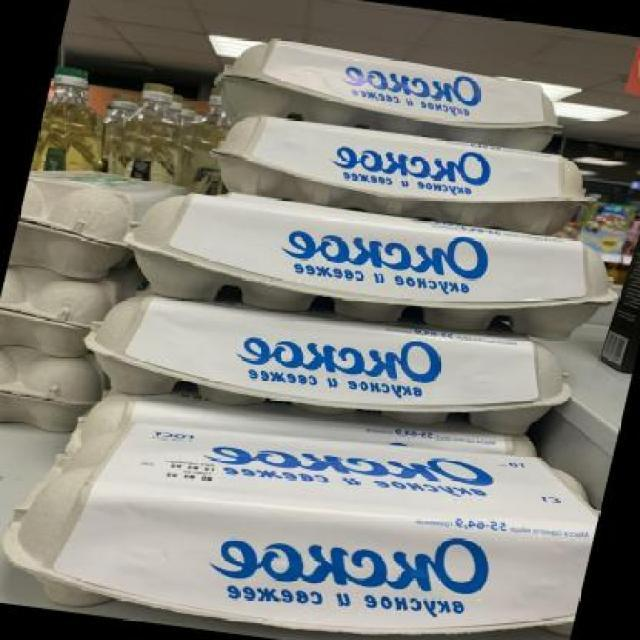Egg: (0, 390, 611, 640), (114, 182, 626, 353), (77, 284, 585, 450), (205, 111, 594, 240), (209, 30, 577, 156), (8, 180, 131, 282), (30, 56, 119, 182), (0, 266, 111, 360), (108, 77, 197, 190), (0, 344, 92, 438)
